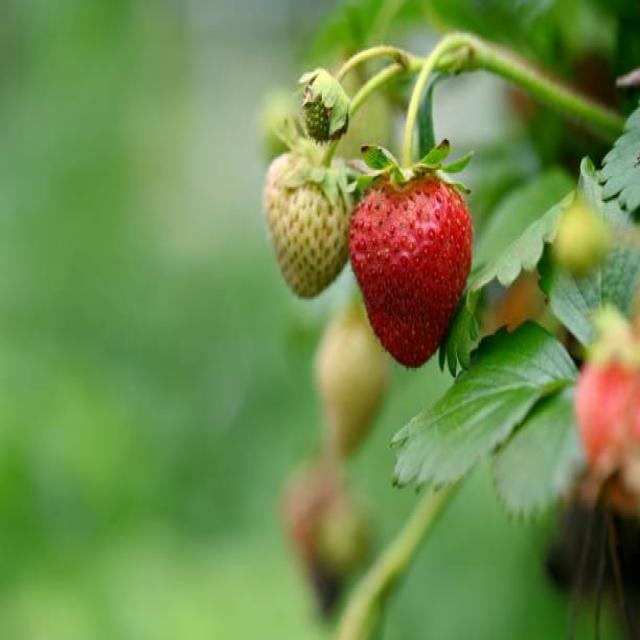Healthy Fruit: (347, 179, 473, 369), (264, 156, 357, 299)
